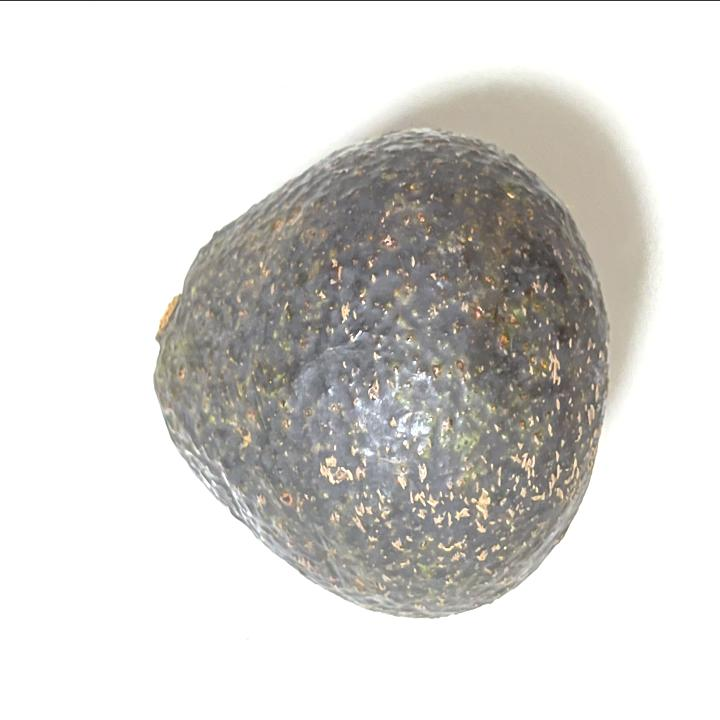Level1: (136, 114, 620, 628)
